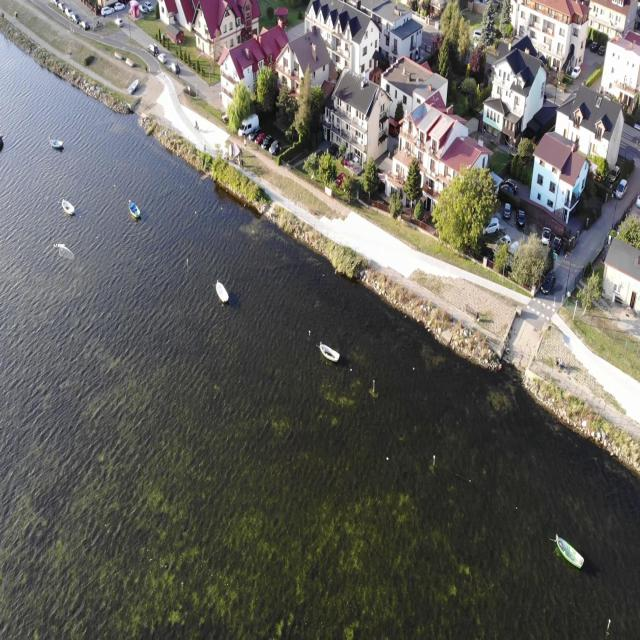boat: (556, 531, 584, 571), (320, 343, 338, 365), (215, 281, 229, 307), (128, 197, 141, 222), (47, 135, 63, 153), (61, 198, 74, 220), (0, 134, 4, 153)
surfboard: (52, 242, 64, 250)
